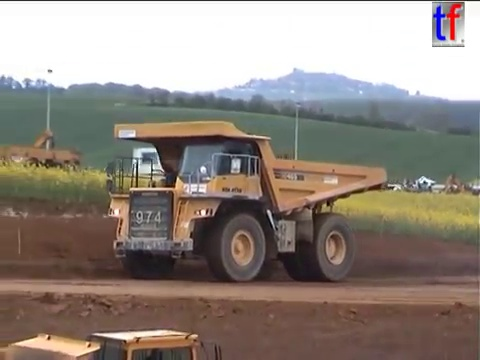excavator: (1, 127, 84, 180), (438, 173, 469, 200)
truck: (102, 118, 389, 284), (1, 326, 225, 360)
